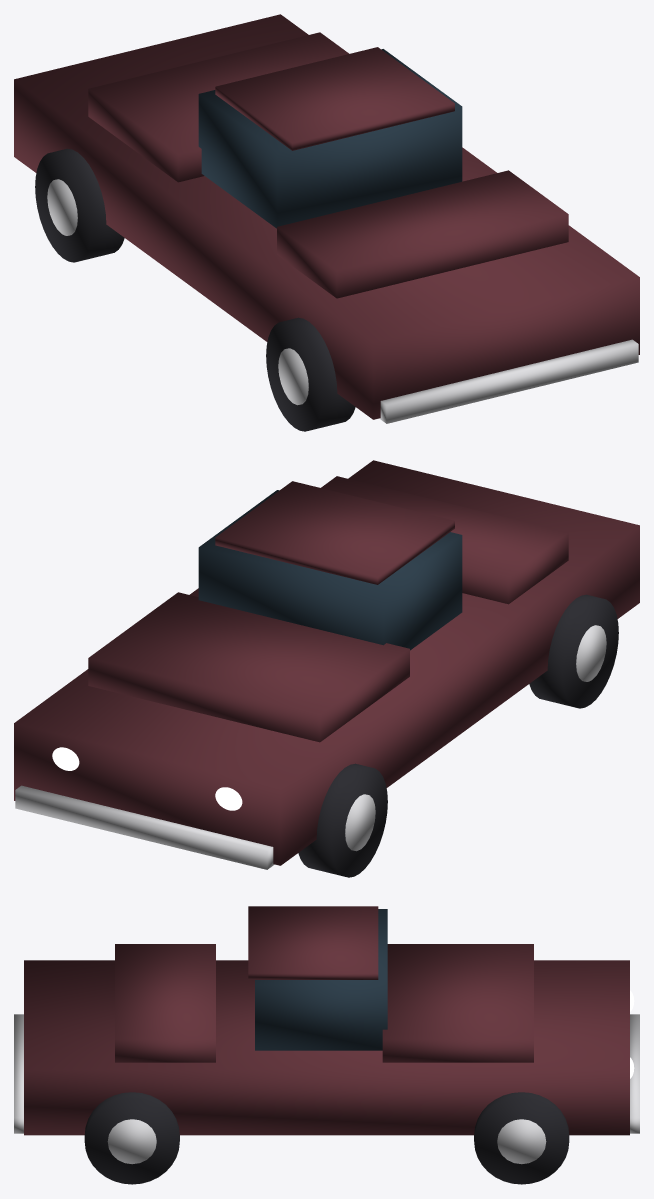
The model's file is car.glb.
3 views of the same model, one above another, from view 1: azimuth 30°, elevation 25°; view 2: azimuth 150°, elevation 25°; view 3: azimuth 270°, elevation 25° (orthographic). The views are drawn at different scales.
Visible parts, largest first — view 1: body, trunk, cabin, roof, hood, bumper.001, wheel.001, wheel, hub, hub.001; view 2: body, hood, cabin, roof, trunk, bumper, wheel, wheel.001, hub.001, hub; view 3: body, hood, trunk, cabin, roof, wheel.002, wheel.003, hub.002, hub.003, bumper.001, bumper.
Boxes of the visible parts, x1=… form: body: x1=14, y1=14, x2=639, y2=419; trunk: x1=277, y1=170, x2=568, y2=298; cabin: x1=198, y1=49, x2=462, y2=228; roof: x1=215, y1=47, x2=454, y2=150; hood: x1=88, y1=32, x2=349, y2=182; bumper.001: x1=379, y1=339, x2=638, y2=423; wheel.001: x1=35, y1=148, x2=124, y2=262; wheel: x1=266, y1=317, x2=355, y2=431; hub: x1=278, y1=348, x2=308, y2=405; hub.001: x1=47, y1=179, x2=77, y2=235; body: x1=14, y1=460, x2=639, y2=865; hood: x1=88, y1=592, x2=409, y2=742; cabin: x1=198, y1=490, x2=462, y2=650; roof: x1=215, y1=481, x2=454, y2=584; trunk: x1=321, y1=476, x2=568, y2=604; bumper: x1=15, y1=785, x2=274, y2=869; wheel: x1=529, y1=594, x2=618, y2=708; wheel.001: x1=298, y1=763, x2=387, y2=877; hub.001: x1=345, y1=794, x2=375, y2=851; hub: x1=576, y1=625, x2=606, y2=681; body: x1=24, y1=960, x2=629, y2=1135; hood: x1=382, y1=944, x2=533, y2=1062; trunk: x1=115, y1=944, x2=215, y2=1062; cabin: x1=255, y1=909, x2=387, y2=1050; roof: x1=248, y1=906, x2=378, y2=979; wheel.002: x1=84, y1=1092, x2=179, y2=1184; wheel.003: x1=474, y1=1092, x2=569, y2=1184; hub.002: x1=107, y1=1119, x2=156, y2=1164; hub.003: x1=497, y1=1119, x2=546, y2=1164; bumper.001: x1=14, y1=1014, x2=23, y2=1133; bumper: x1=630, y1=1014, x2=639, y2=1133.
Size of what is drawn, in the model's own units: 2.02 by 1.4 by 4.34.
